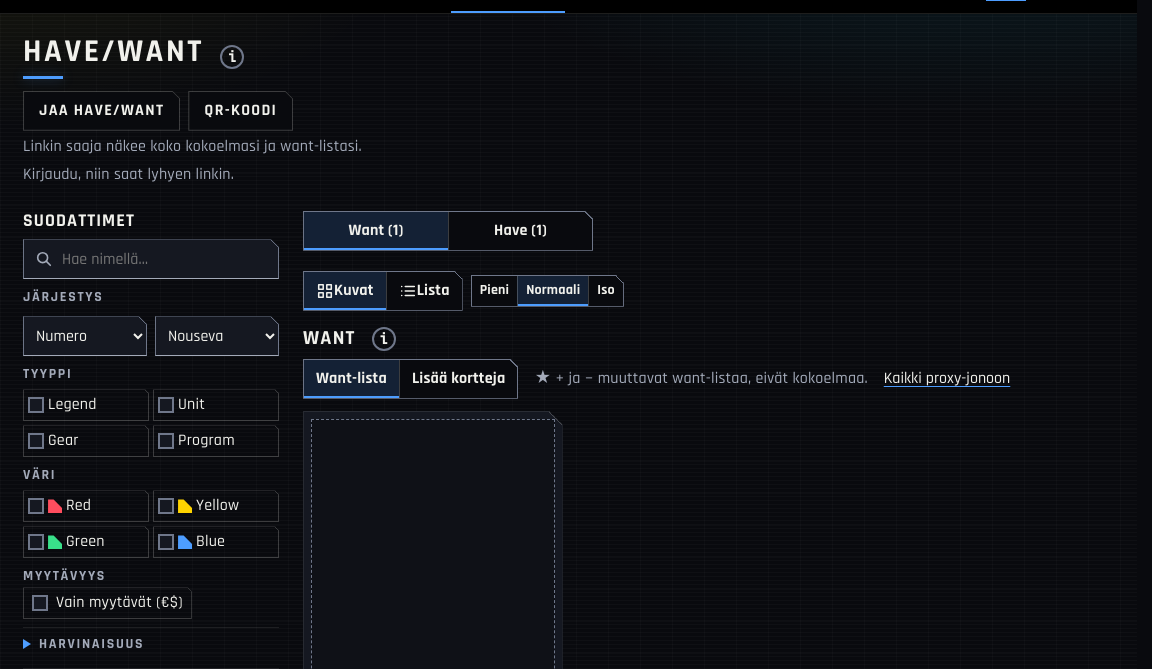
Test case: Have/Want card grid (T-067) › shows the want and have cards as grids with a want counter and the owned count
Click the radio button labelled "Have (1)": (520, 231) [448, 212, 592, 250]
(page scrolled)
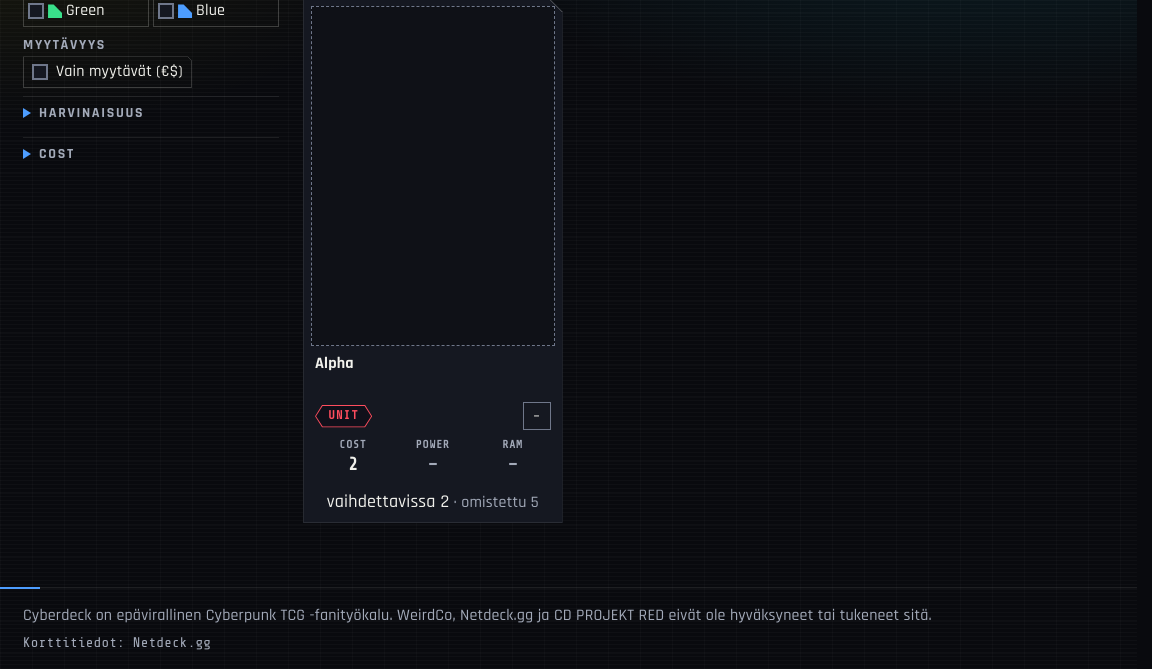
expect the text "omistettu 5" is shown: met, box [461, 492, 539, 513]
